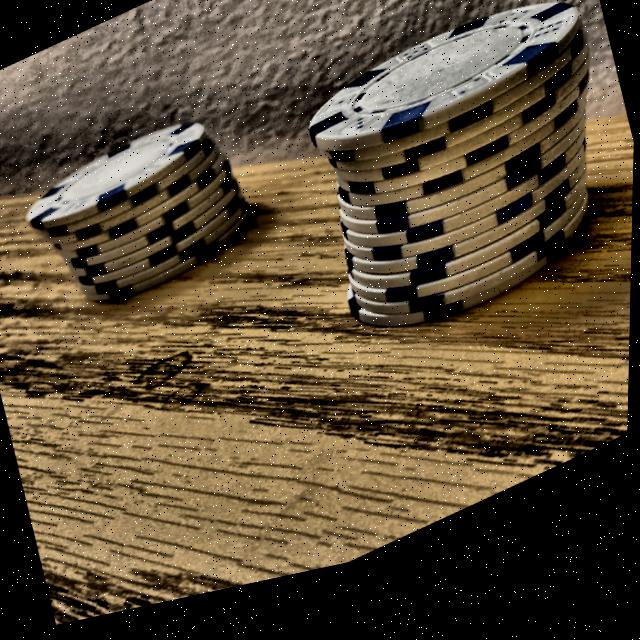Chip: (253, 0, 639, 411), (12, 84, 269, 366)
